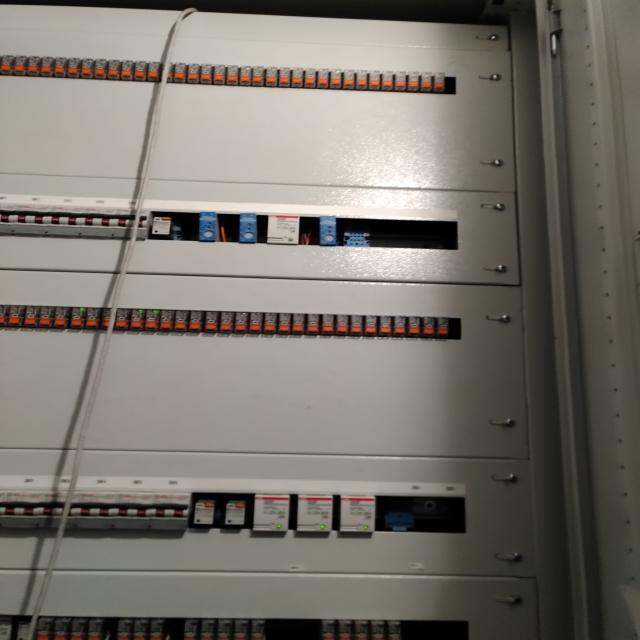Dimmer: (296, 494, 334, 531), (253, 494, 288, 532), (340, 495, 375, 533), (266, 214, 300, 245), (200, 212, 218, 242), (240, 214, 258, 242), (319, 216, 337, 244), (344, 233, 370, 246)
Leitungsschutzschalter: (1, 474, 46, 526), (148, 478, 190, 530), (74, 476, 115, 528), (113, 476, 153, 529), (43, 474, 79, 526), (10, 194, 50, 236), (47, 195, 83, 237), (78, 196, 114, 238), (112, 198, 147, 239), (222, 493, 252, 529), (191, 497, 221, 528), (0, 194, 15, 236), (153, 217, 173, 239)
Relais: (8, 616, 32, 640), (51, 616, 72, 640), (354, 619, 374, 640), (182, 618, 201, 640), (234, 619, 253, 640), (86, 618, 104, 640), (133, 618, 151, 640), (69, 306, 86, 329), (35, 617, 52, 640), (321, 619, 339, 640), (149, 619, 167, 640), (114, 308, 131, 329), (173, 310, 190, 331), (84, 308, 100, 330), (348, 314, 364, 336), (70, 618, 86, 640), (158, 310, 174, 331), (79, 58, 95, 79), (133, 61, 149, 82), (200, 619, 216, 640), (250, 619, 266, 640), (40, 56, 55, 78), (54, 307, 70, 327), (8, 306, 24, 326), (188, 311, 204, 331), (248, 312, 264, 332), (218, 619, 234, 639), (370, 620, 386, 640), (0, 55, 15, 76), (394, 70, 408, 92), (378, 316, 394, 335), (204, 311, 219, 331), (219, 312, 234, 332), (234, 312, 249, 332), (66, 58, 81, 78), (106, 60, 121, 80), (93, 60, 108, 80), (13, 56, 28, 76), (238, 65, 253, 85), (264, 66, 279, 86), (339, 619, 354, 639), (387, 620, 402, 640), (24, 306, 38, 327), (39, 306, 53, 327), (303, 68, 317, 89), (186, 63, 200, 84), (342, 69, 356, 90), (199, 64, 213, 85), (290, 67, 304, 88), (407, 71, 421, 92), (432, 72, 446, 93), (328, 68, 342, 89), (0, 618, 13, 640), (291, 314, 306, 333), (422, 316, 436, 336), (408, 316, 422, 336), (393, 316, 407, 336), (321, 314, 335, 334), (120, 60, 134, 80), (172, 63, 186, 83), (251, 66, 265, 86), (226, 65, 240, 85), (277, 67, 291, 87), (212, 65, 226, 85), (355, 70, 369, 90), (316, 69, 330, 89), (436, 317, 450, 337), (27, 57, 41, 77), (381, 70, 394, 91), (368, 70, 381, 91), (263, 313, 277, 332), (306, 314, 320, 333), (336, 315, 350, 334), (364, 316, 378, 335), (130, 309, 143, 329), (420, 72, 433, 92), (54, 57, 67, 77), (278, 314, 292, 332), (118, 619, 130, 640), (100, 308, 112, 328), (148, 62, 160, 82), (144, 312, 158, 329), (166, 63, 175, 82), (0, 305, 8, 324)
Schaltkasten: (3, 23, 549, 640)
